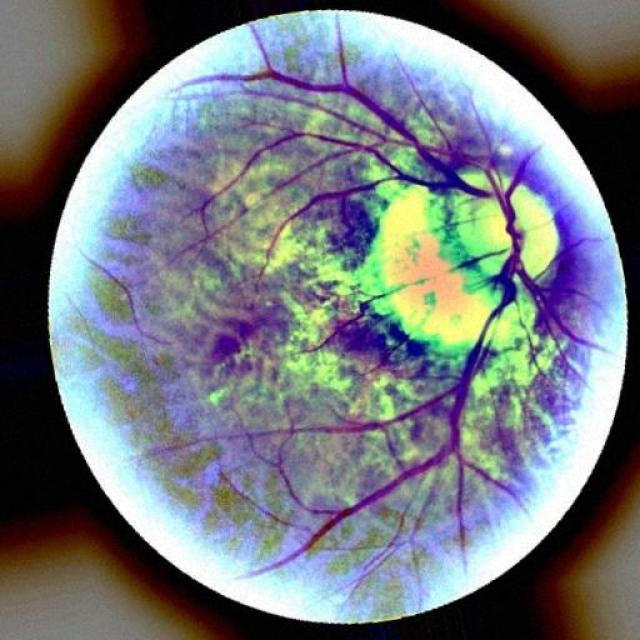Macula: (196, 305, 275, 368)
Nerves: (148, 260, 524, 579), (257, 125, 518, 274), (518, 262, 604, 385)
Optic Disk: (377, 175, 558, 344)
